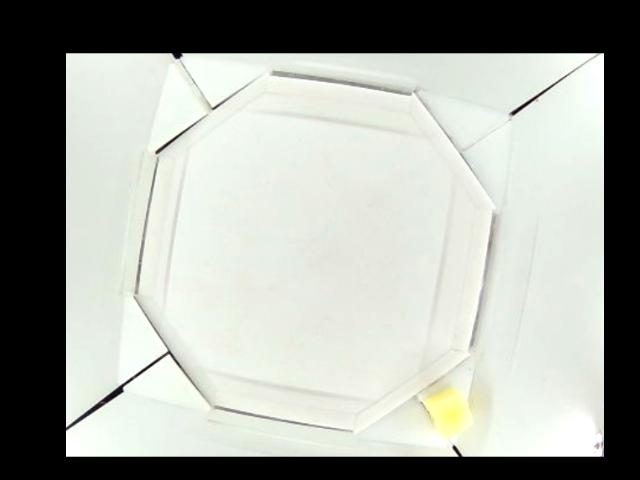Potato: (422, 385, 473, 439)
